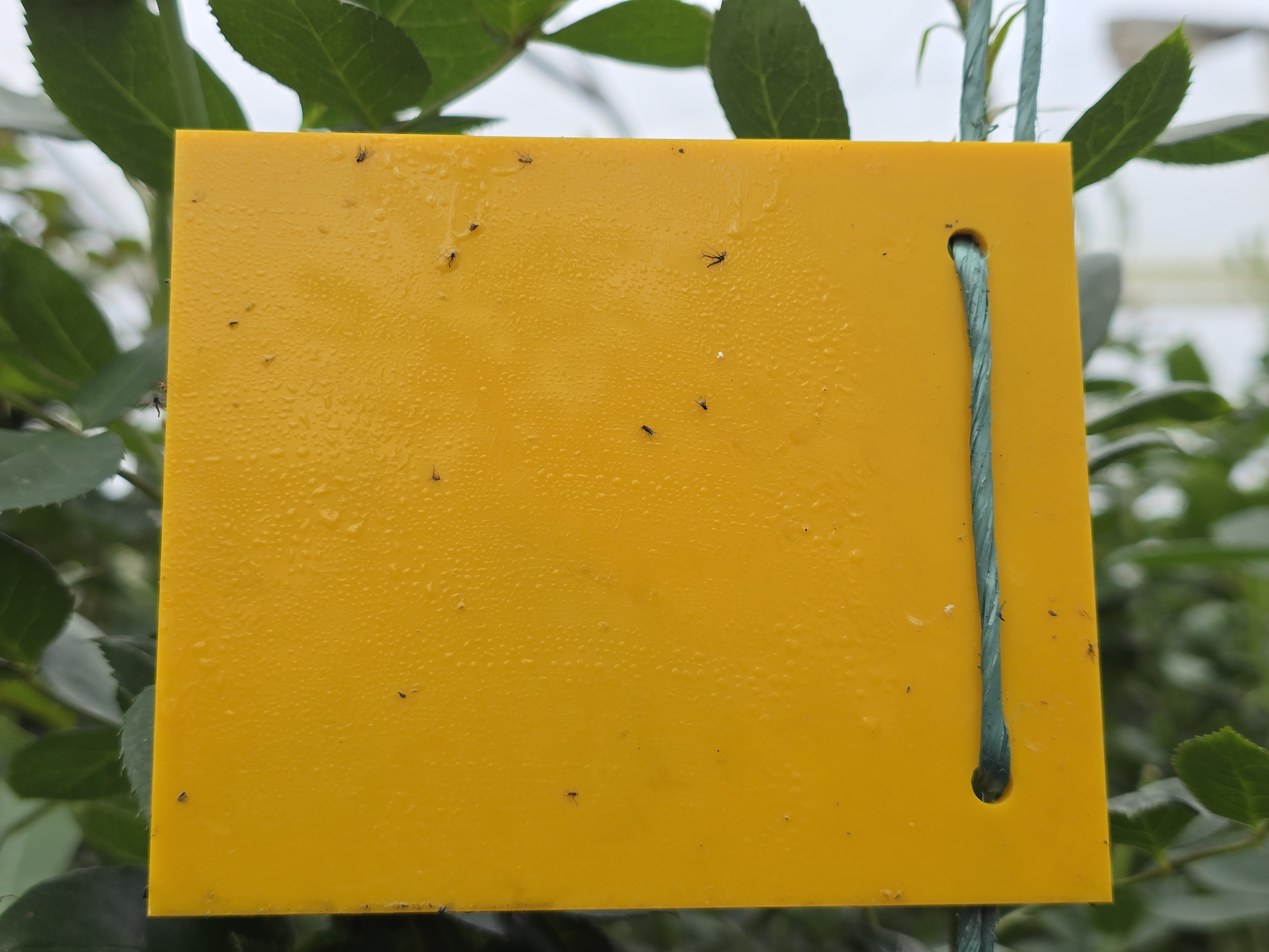WF: (942, 604, 958, 618), (715, 350, 727, 362)
